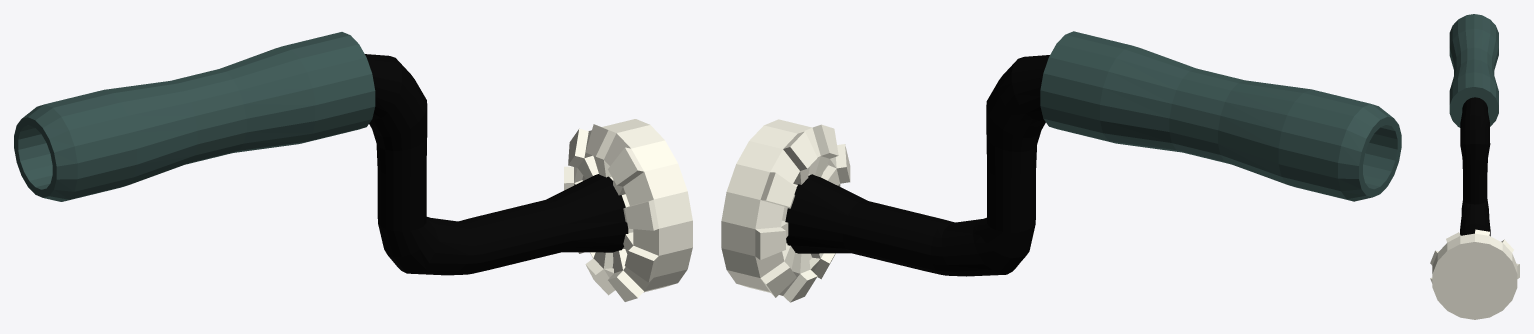
The model's file is fishingReel_Handle.fbx.
The picture shows the model from 3 angles, left to right: view 1: azimuth 30°, elevation 25°; view 2: azimuth 150°, elevation 25°; view 3: azimuth 270°, elevation 25°; orthographic projection. The views are drawn at different scales.
Parts seen in each view (by area): view 1: Handle, Screw, Rotate_Center, Linking_Part; view 2: Handle, Screw, Rotate_Center, Linking_Part; view 3: Screw, Handle, Linking_Part, Rotate_Center.
Boxes of the visible parts, <box> form: Handle: <box>14,32,375,201</box>; Screw: <box>564,119,692,301</box>; Rotate_Center: <box>378,174,628,275</box>; Linking_Part: <box>365,54,427,227</box>; Handle: <box>1040,31,1401,201</box>; Screw: <box>721,119,850,302</box>; Rotate_Center: <box>785,174,1035,276</box>; Linking_Part: <box>986,55,1049,228</box>; Screw: <box>1430,229,1519,319</box>; Handle: <box>1449,14,1498,127</box>; Linking_Part: <box>1460,97,1490,202</box>; Rotate_Center: <box>1460,198,1490,236</box>.
Size of the model in its own units: 34.98 by 17.6 by 8.84.
